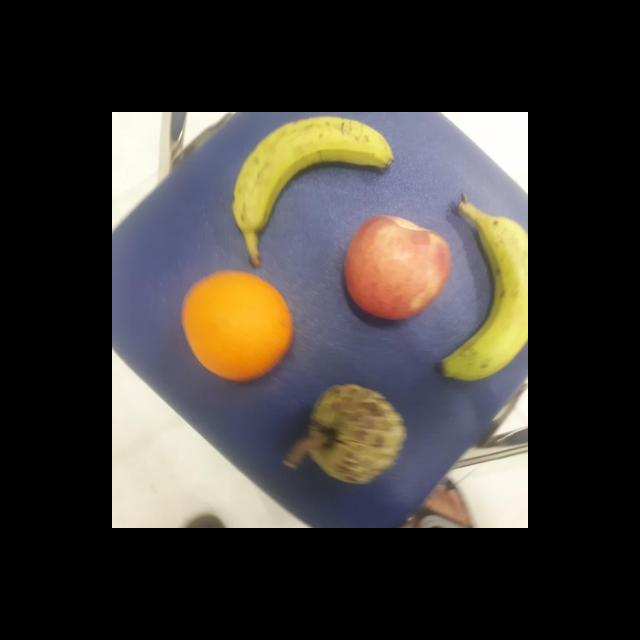apple: (342, 212, 457, 327)
banana: (219, 114, 398, 234), (437, 198, 528, 378)
orange: (177, 270, 292, 385)
